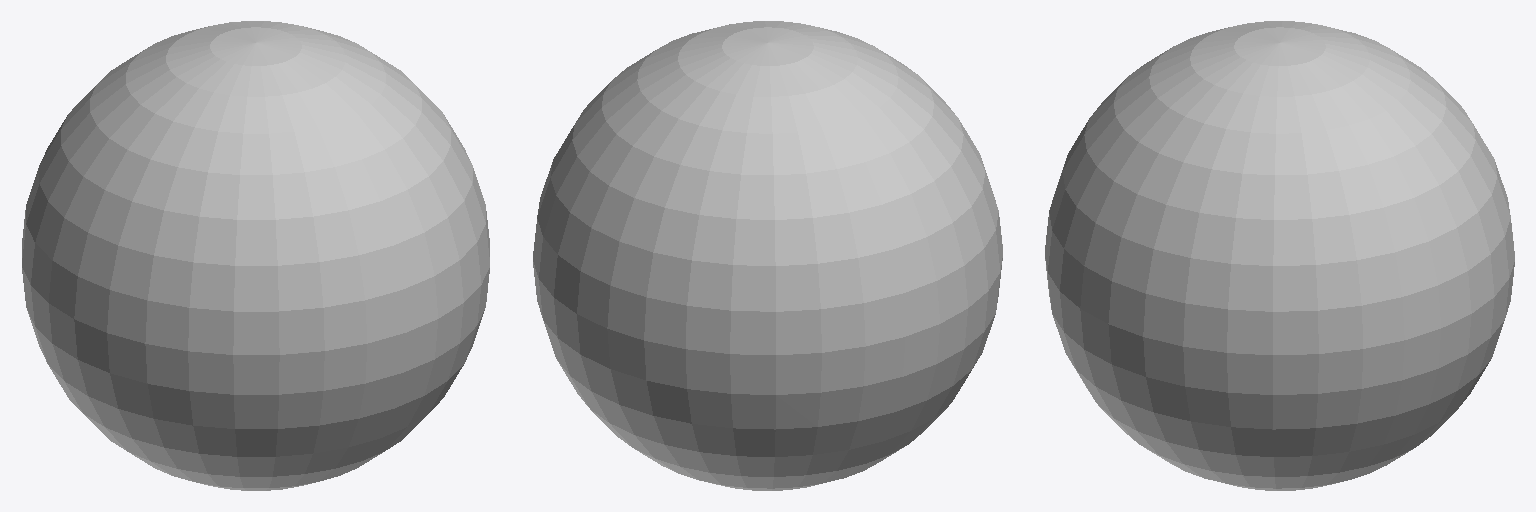
Rendered from sun.obj.
3 views of the same model, side by side, from view 1: azimuth 30°, elevation 25°; view 2: azimuth 150°, elevation 25°; view 3: azimuth 270°, elevation 25° (orthographic).
Parts seen in each view (by area): view 1: Sun; view 2: Sun; view 3: Sun.
Part boxes in pixels (bbox=[...]): Sun: bbox=[22, 21, 489, 490]; Sun: bbox=[533, 21, 1002, 490]; Sun: bbox=[1045, 21, 1514, 490].
Bounding box in the file's own units: 100 × 100 × 100.